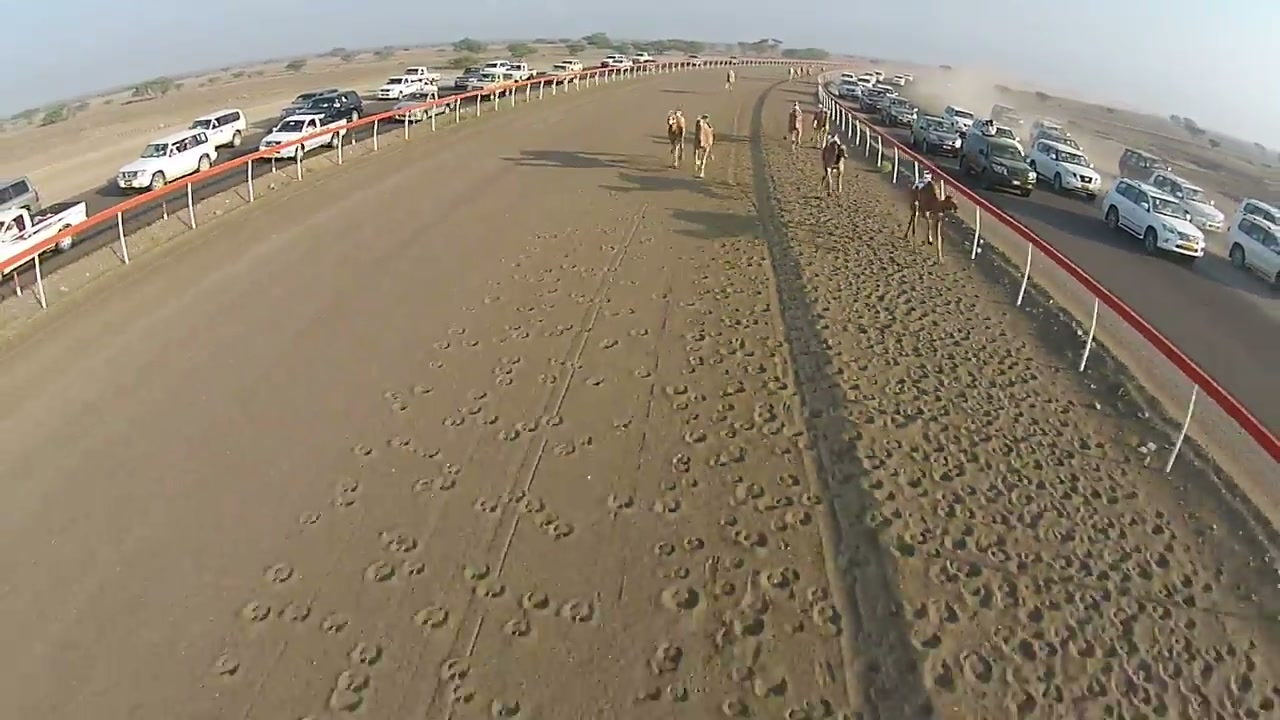animal_foot_print: (210, 116, 1276, 719), (763, 142, 1279, 716), (460, 231, 846, 716), (208, 383, 493, 716)
